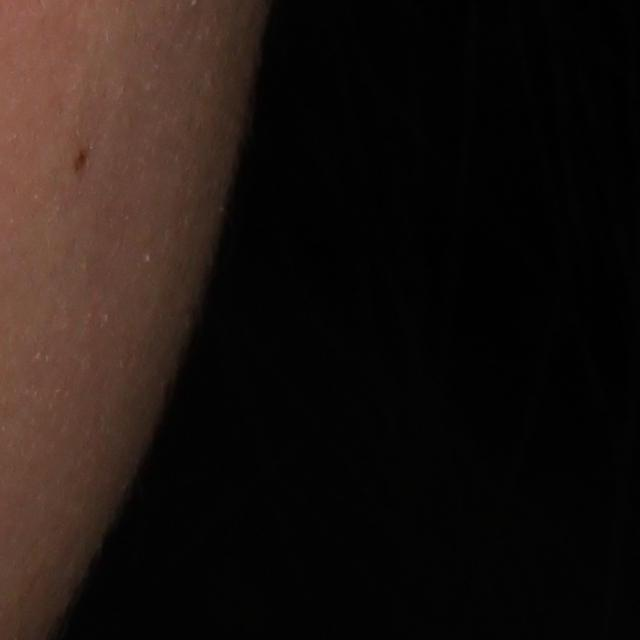nevus: (68, 144, 91, 179)
